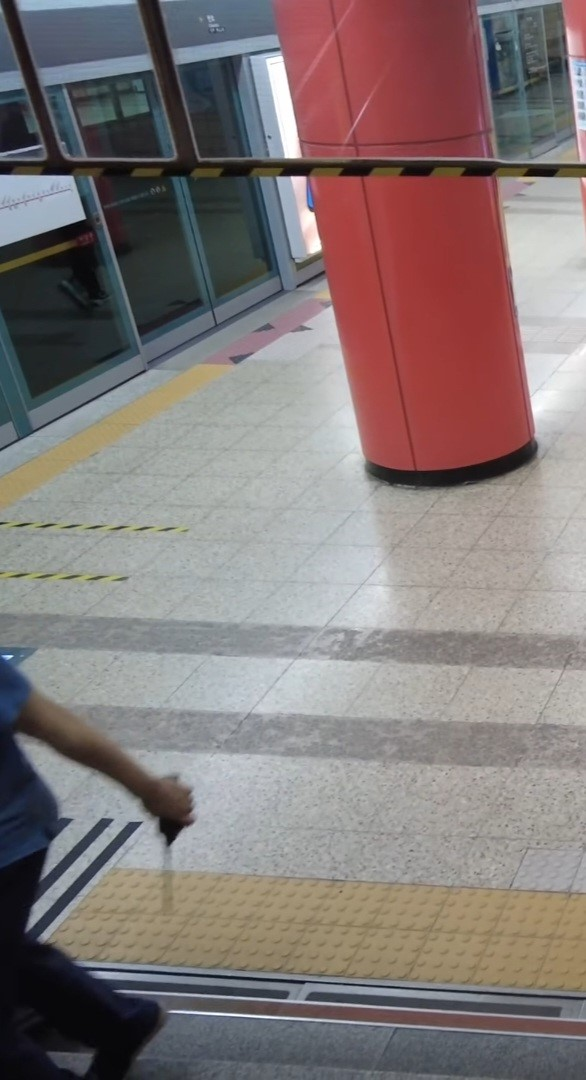warningBlock: (427, 933, 550, 993), (200, 874, 319, 933), (311, 920, 422, 982), (192, 906, 304, 966), (324, 885, 449, 934), (449, 895, 560, 948), (70, 916, 175, 961), (101, 872, 193, 911), (560, 938, 586, 1003), (567, 892, 586, 944)
